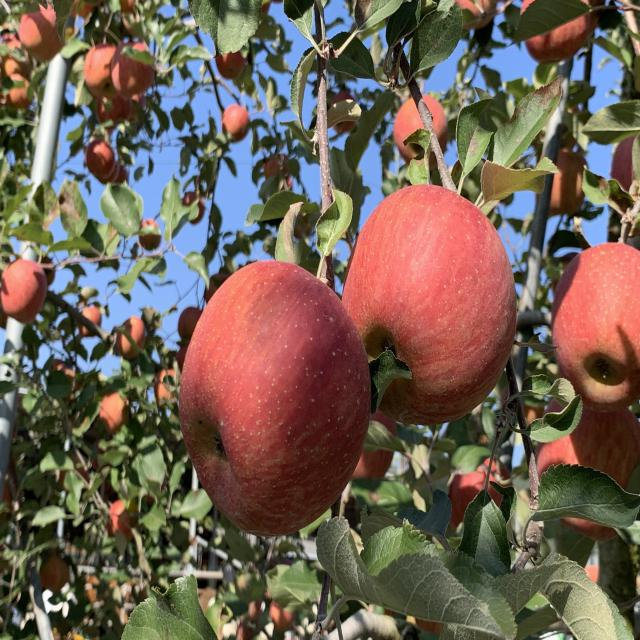fresh: (177, 257, 375, 541), (343, 177, 523, 430)
